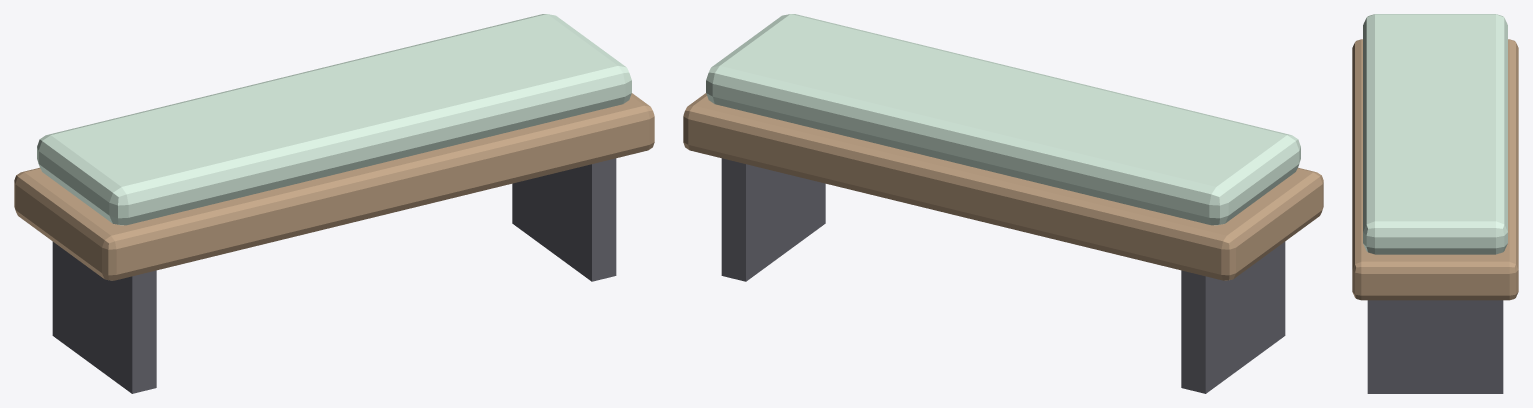
Rendered from bench.glb.
3 renders of one model, left to right at view 1: azimuth 30°, elevation 25°; view 2: azimuth 150°, elevation 25°; view 3: azimuth 270°, elevation 25°, orthographic. The views are drawn at different scales.
Visible parts, largest first — view 1: bench_cushion, bench_seat, bench_leg_-0.75, bench_leg_0.75; view 2: bench_cushion, bench_seat, bench_leg_-0.75, bench_leg_0.75; view 3: bench_cushion, bench_leg_0.75, bench_seat.
Boxes of the visible parts, x1=… form: bench_cushion: x1=37, y1=14, x2=631, y2=225; bench_seat: x1=14, y1=93, x2=654, y2=280; bench_leg_-0.75: x1=52, y1=241, x2=156, y2=393; bench_leg_0.75: x1=512, y1=158, x2=616, y2=281; bench_cushion: x1=706, y1=14, x2=1300, y2=225; bench_seat: x1=683, y1=93, x2=1323, y2=280; bench_leg_-0.75: x1=1181, y1=241, x2=1285, y2=393; bench_leg_0.75: x1=721, y1=158, x2=825, y2=281; bench_cushion: x1=1363, y1=14, x2=1507, y2=254; bench_leg_0.75: x1=1367, y1=300, x2=1503, y2=393; bench_seat: x1=1352, y1=39, x2=1518, y2=300.
Bounding box in the file's own units: 1.8 × 0.64 × 0.55.
